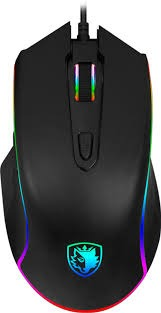mouse: (1, 17, 161, 311)
